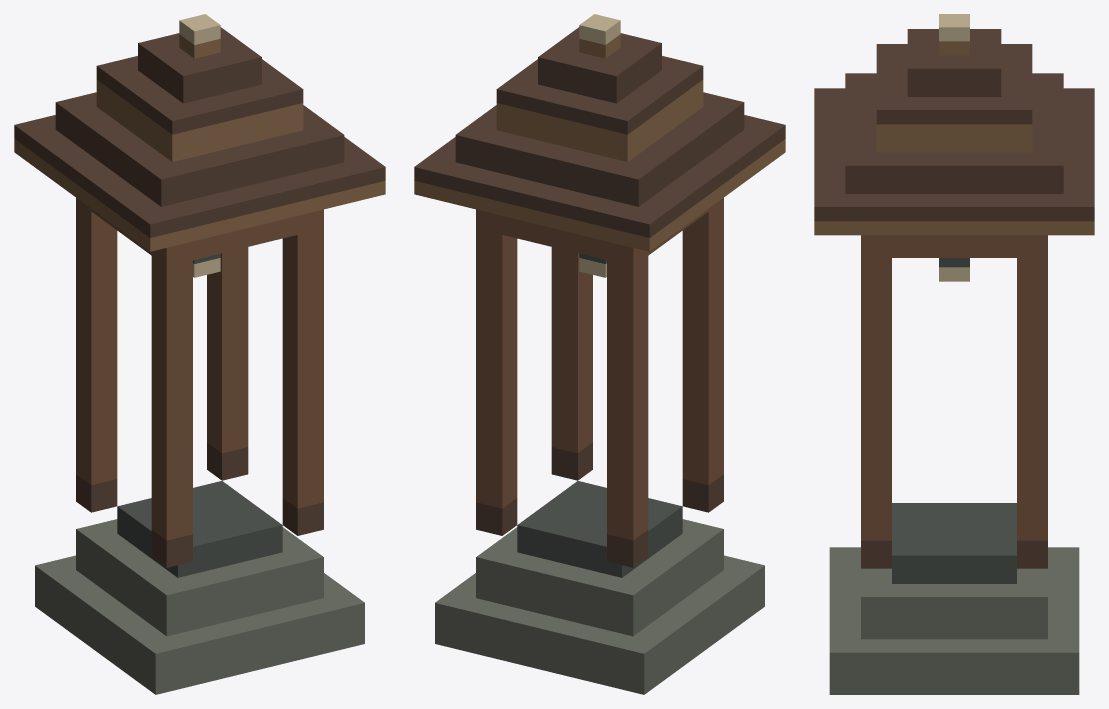
The model's file is hearthvale_market_cross.obj.
3 renders of one model, left to right at view 1: azimuth 30°, elevation 25°; view 2: azimuth 150°, elevation 25°; view 3: azimuth 270°, elevation 25°, orthographic. The views are drawn at different scales.
Visible parts, largest first — view 1: palette_1, palette_8, palette_10, palette_12, palette_9, palette_6; view 2: palette_1, palette_8, palette_10, palette_12, palette_9, palette_6; view 3: palette_8, palette_10, palette_1, palette_9, palette_12, palette_6.
Boxes of the visible parts, box(x1,y1,x2,y2) form: palette_1: box(76, 198, 323, 540); palette_8: box(14, 27, 385, 567); palette_10: box(35, 519, 364, 694); palette_12: box(14, 34, 385, 251); palette_9: box(117, 253, 282, 577); palette_6: box(179, 14, 220, 277); palette_1: box(476, 198, 723, 540); palette_8: box(414, 27, 785, 567); palette_10: box(435, 519, 764, 694); palette_12: box(414, 34, 785, 251); palette_9: box(517, 253, 682, 577); palette_6: box(579, 14, 620, 277); palette_8: box(814, 29, 1094, 568); palette_10: box(829, 547, 1079, 694); palette_1: box(861, 235, 1047, 540); palette_9: box(892, 258, 1016, 583); palette_12: box(814, 41, 1094, 235); palette_6: box(939, 14, 969, 281).
Size of the model in its own units: 2.25 by 5.5 by 2.25.
